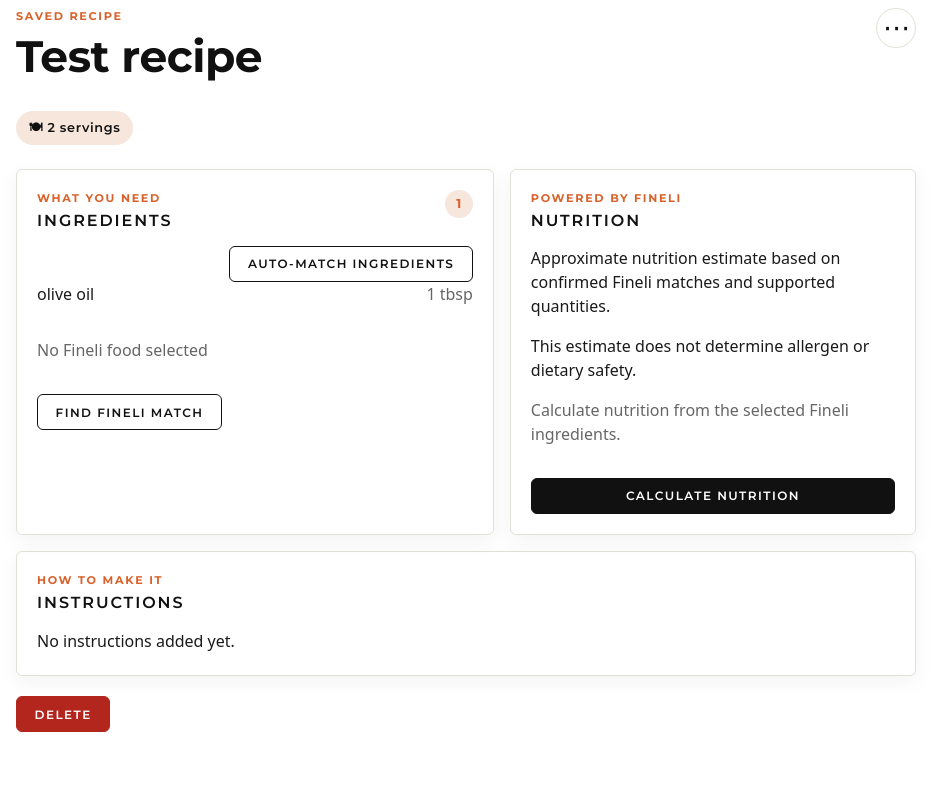
Test: RecipeDetailPage ingredient matching › explains when none of the ingredients can contribute
The width and height of the screenshot is (933, 810).
Click the button "Calculate nutrition". click: (713, 496)
box: [531,478,895,514]
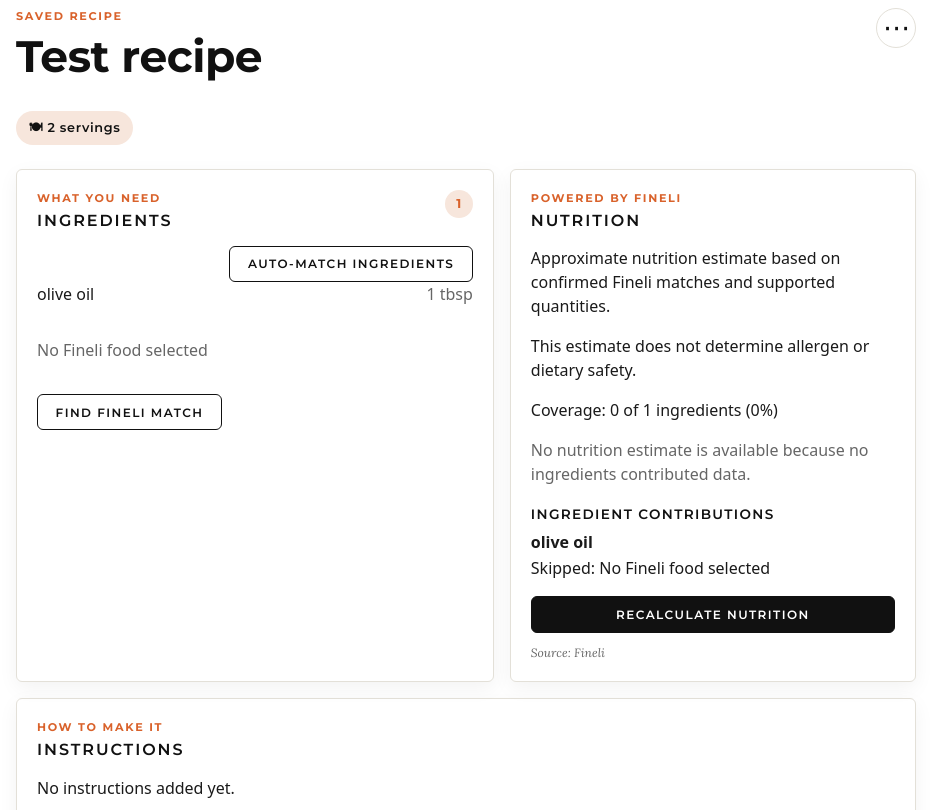
Result: the text "No nutrition estimate is available because no ingredients contributed data." is shown at [531,438,895,486]
Result: the text "Coverage: 0 of 1 ingredients (0%)" is shown at [531,399,778,421]
Result: the text "Skipped: No Fineli food selected" is shown at [531,557,770,579]
